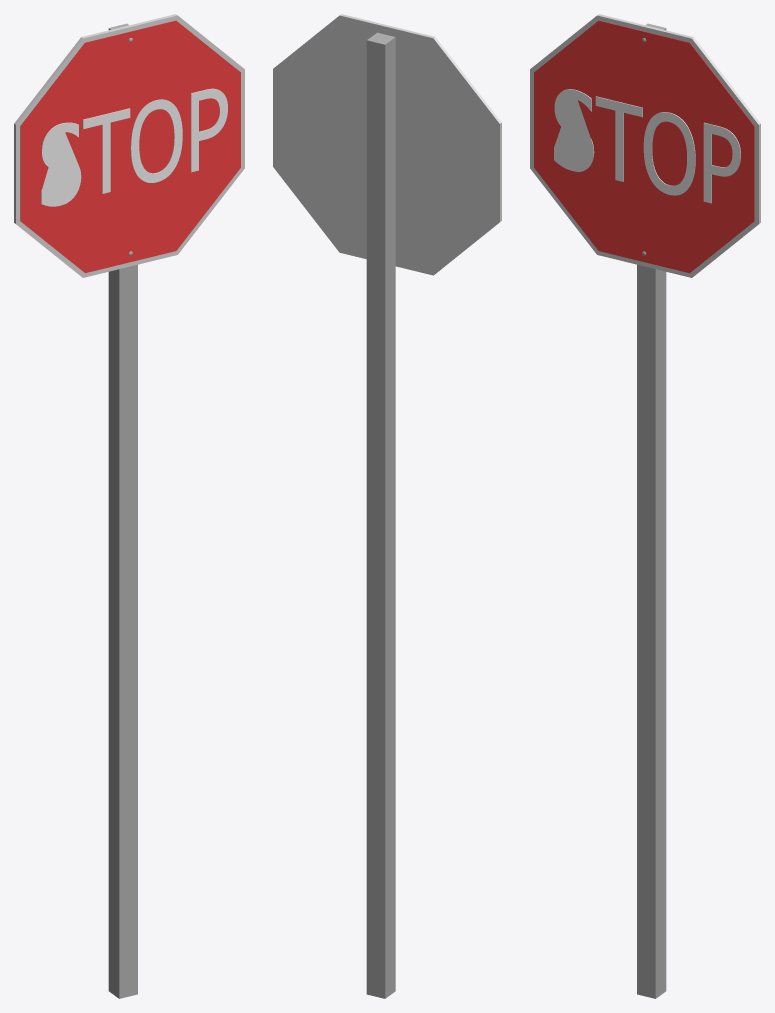
Rendered from StopSign.fbx.
3 views of the same model, side by side, from view 1: azimuth 30°, elevation 25°; view 2: azimuth 150°, elevation 25°; view 3: azimuth 330°, elevation 25° (orthographic).
Parts seen in each view (by area): view 1: Red1, Pole.001, STOP, White1; view 2: White1, Pole.001; view 3: Red1, Pole.001, STOP, White1.
Boxes of the visible parts, left/top/right/bottom form: Red1: left=20, top=20, right=240, bottom=273; Pole.001: left=108, top=23, right=137, bottom=998; STOP: left=41, top=88, right=227, bottom=206; White1: left=14, top=14, right=244, bottom=277; White1: left=273, top=14, right=501, bottom=275; Pole.001: left=366, top=32, right=395, bottom=998; Red1: left=534, top=20, right=754, bottom=273; Pole.001: left=637, top=23, right=666, bottom=998; STOP: left=554, top=89, right=740, bottom=203; White1: left=530, top=14, right=760, bottom=277.
Size of the model in its own units: 53.65 by 218 by 5.44.
